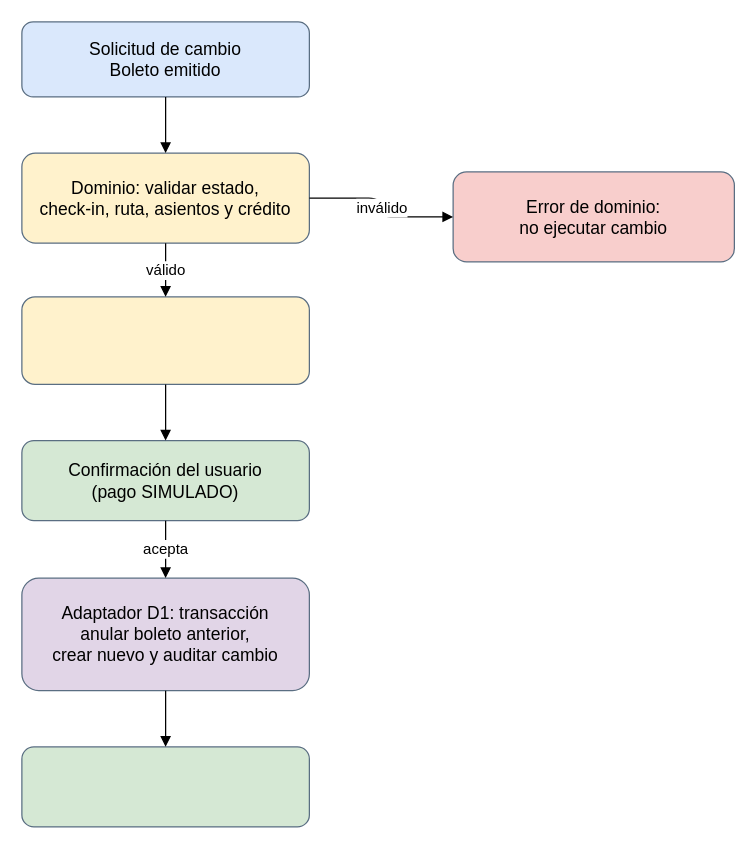
This 756x849 diagram has some shape labels left out. The shapes that lost their labels are listed below. From the top down, each one's centre as x and y in pixels, then its label:
At (165,340): "Dominio: penalidad por clase + diferencia de tarifa".
At (165,786): "Nuevo boleto: tarifa congelada (RN-08)".
